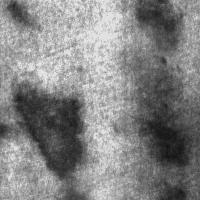patches: (13, 88, 83, 194), (129, 102, 200, 200), (126, 26, 186, 86), (57, 156, 131, 200), (139, 110, 187, 166), (131, 1, 181, 53), (8, 1, 27, 23)
